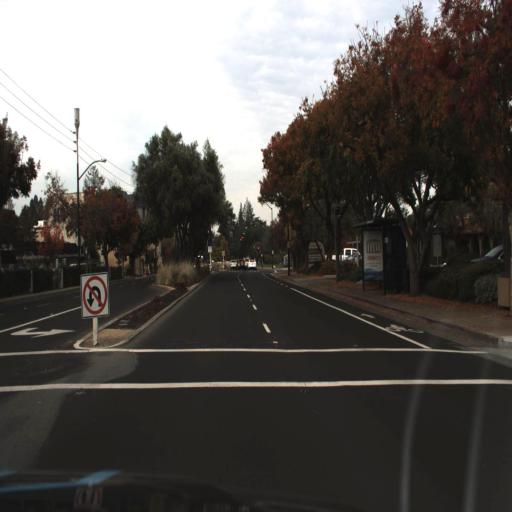car: (247, 260, 257, 270), (236, 260, 246, 270), (228, 260, 237, 270)
trafficLight-Red: (240, 238, 242, 245), (258, 246, 260, 252)
